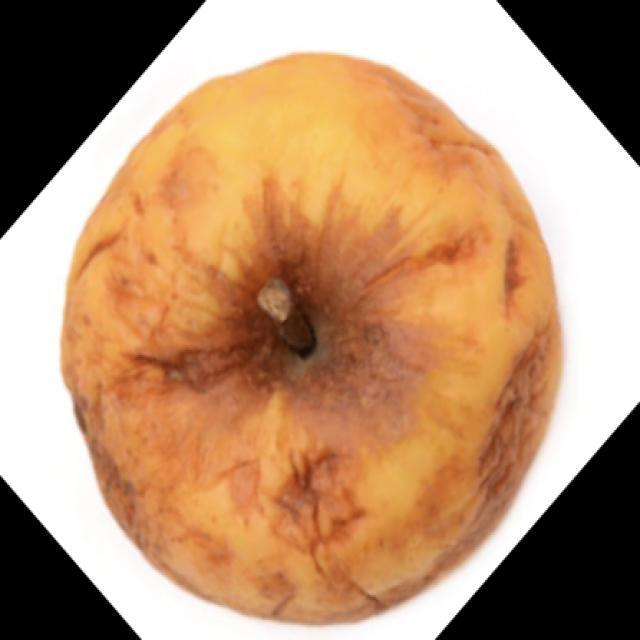Rotten: (80, 62, 548, 608)
